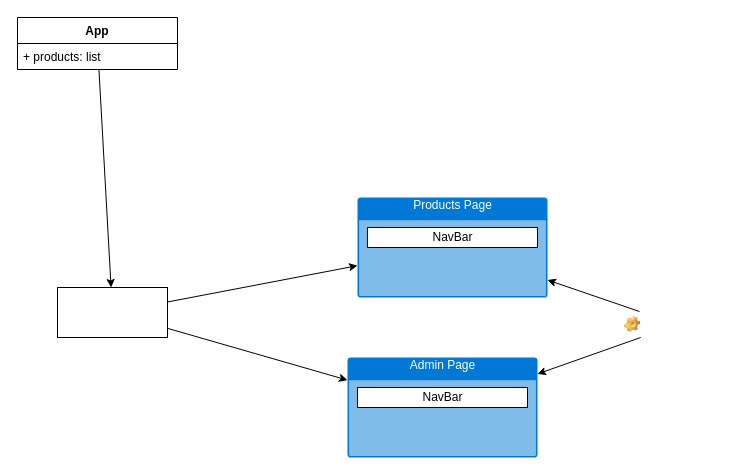
Some shapes in this 755 by 475 pixel diagram are drawn without their labels. The box of each missing label's shape, as (x1, y1, x2, y2) in pixels:
App State: (56, 286, 168, 338)
product-handler: (617, 311, 737, 337)
